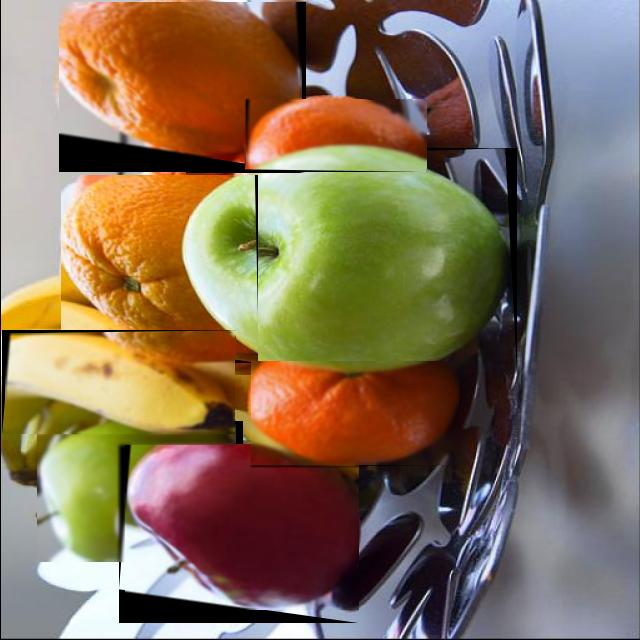Apple: (185, 152, 511, 374), (124, 445, 358, 609), (36, 424, 234, 561)
Banana: (4, 333, 234, 433)
Orange: (59, 2, 301, 158), (61, 175, 256, 356), (250, 361, 458, 465), (245, 100, 425, 168)
